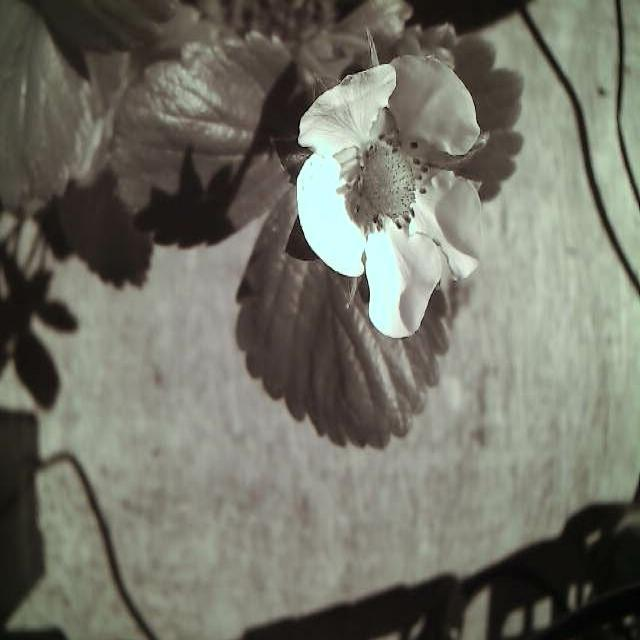flower: (292, 62, 500, 340)
